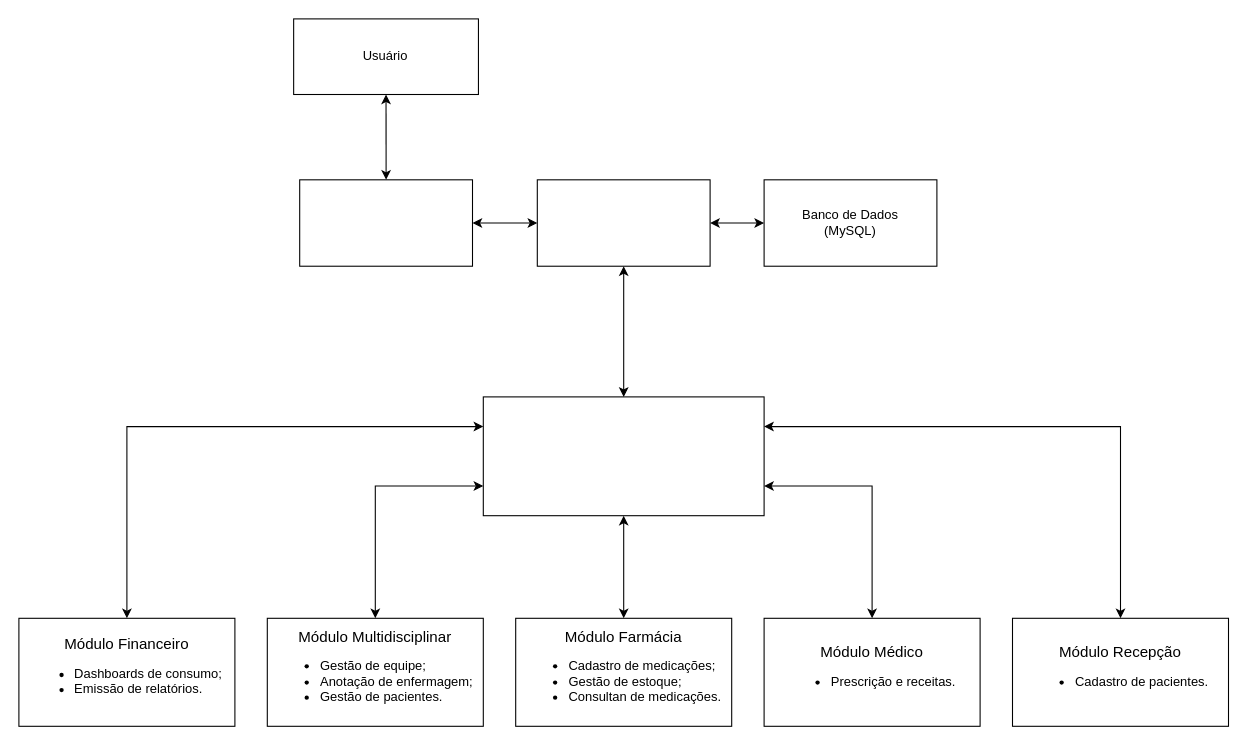
Some shapes in this 1247 by 745 pixel diagram are drawn without their labels. The centre of each missing label's shape, as x and y in pixels:
"Back-end (Node.js )" goes at (x=623, y=222).
"Front-end - Web (React)" goes at (x=386, y=222).
"Módulo Central Autenticação; Auditoria; Gestão de usuários; Notificações." goes at (x=623, y=456).
